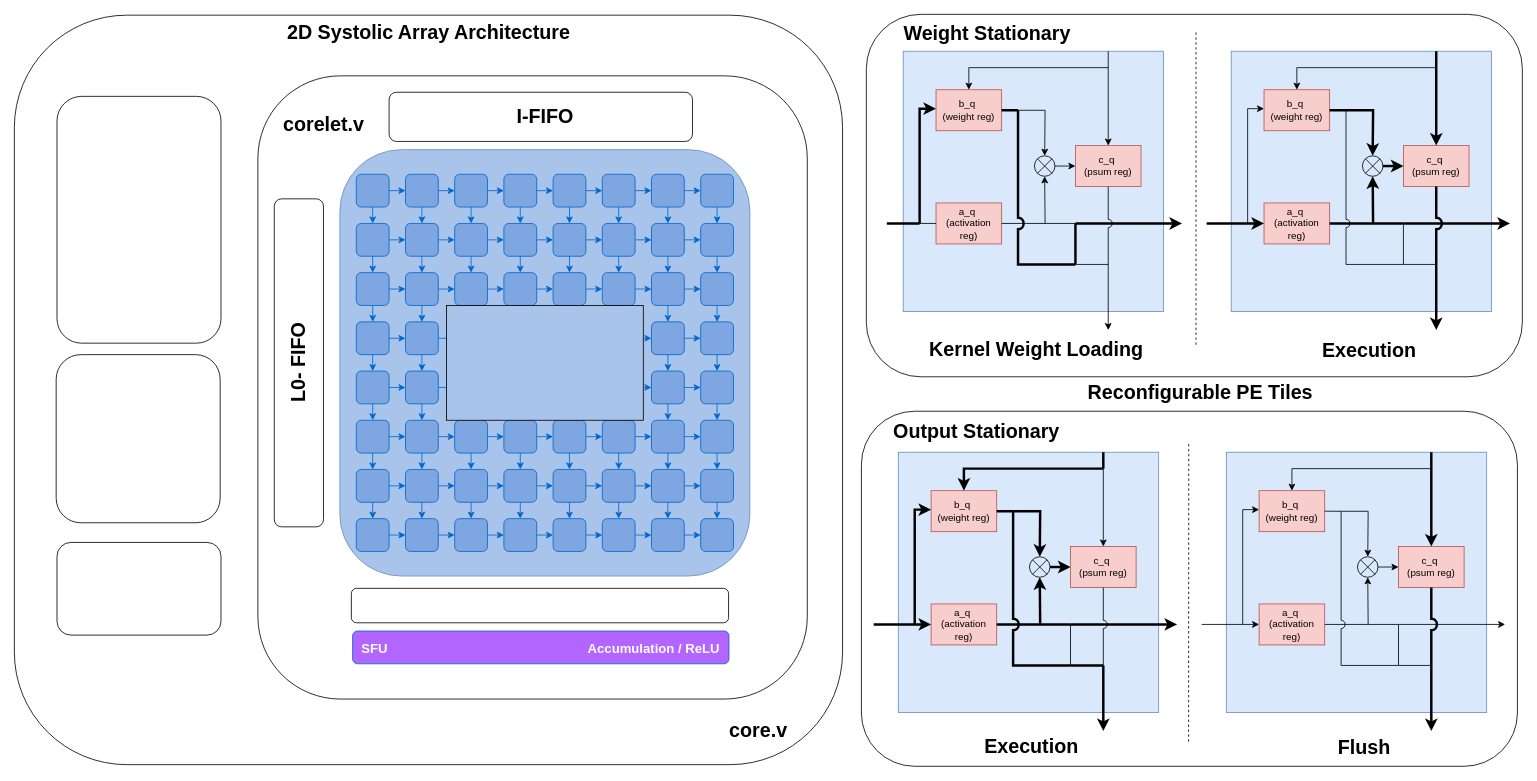
Image size: 1537x781. Some labels were removed from this diagram. The shapes that lost their labels are listed below. From the top down, each one's centre as x and y in pixels, then its label:
At point 372,190: "PE".
At point 138,219: "Weight and Activations SRAM".
At point 544,362: "MAC Array".
At point 137,438: "PSUM SRAM".
At point 138,588: "Controller".
At point 540,605: "O-FIFO".
